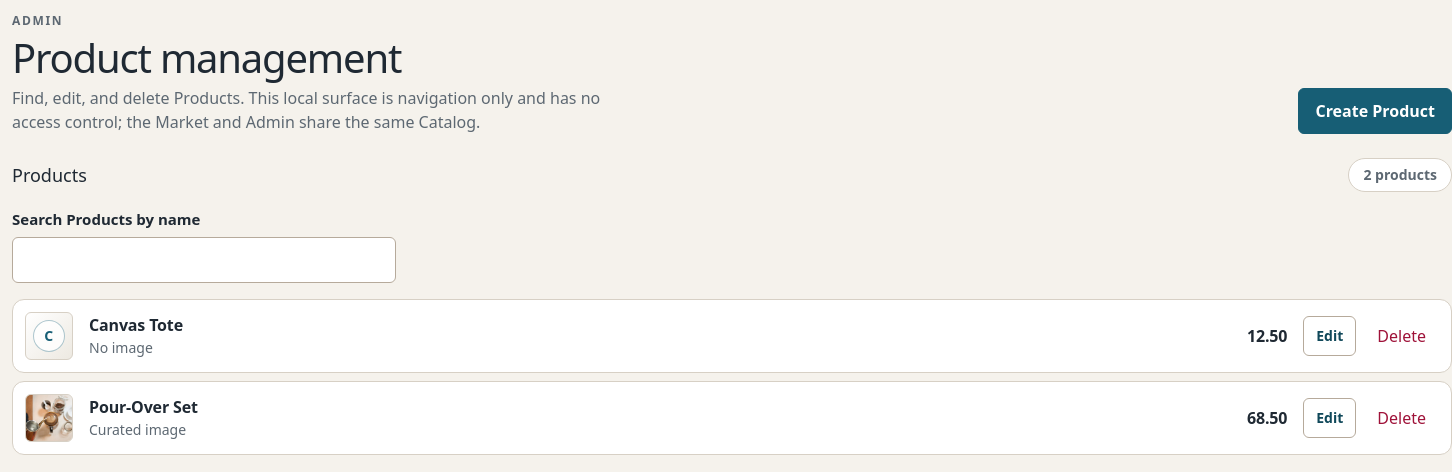
Test: AdminProducts › filters Products by name case-insensitively and clears the search
Expected: the heading "Canvas Tote" is shown, [89,314,183,336]
Type "POUR" into the search field labelled "Search Products by name" at [204, 260], box [12,236,396,282]
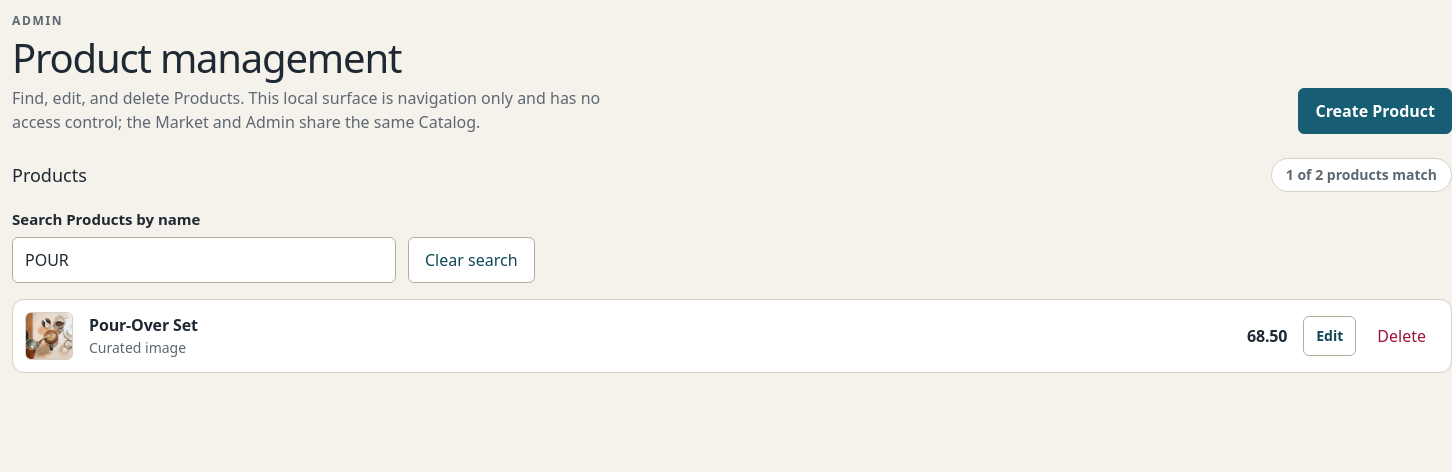
Expected: the heading "Pour-Over Set" is shown, [89,314,198,336]
Now the heading "Canvas Tote" is gone
Now the text "1 of 2 products match" is shown, box [1271,158,1451,192]
Click the button "Clear search" at [471, 260], box [408,236,534,282]
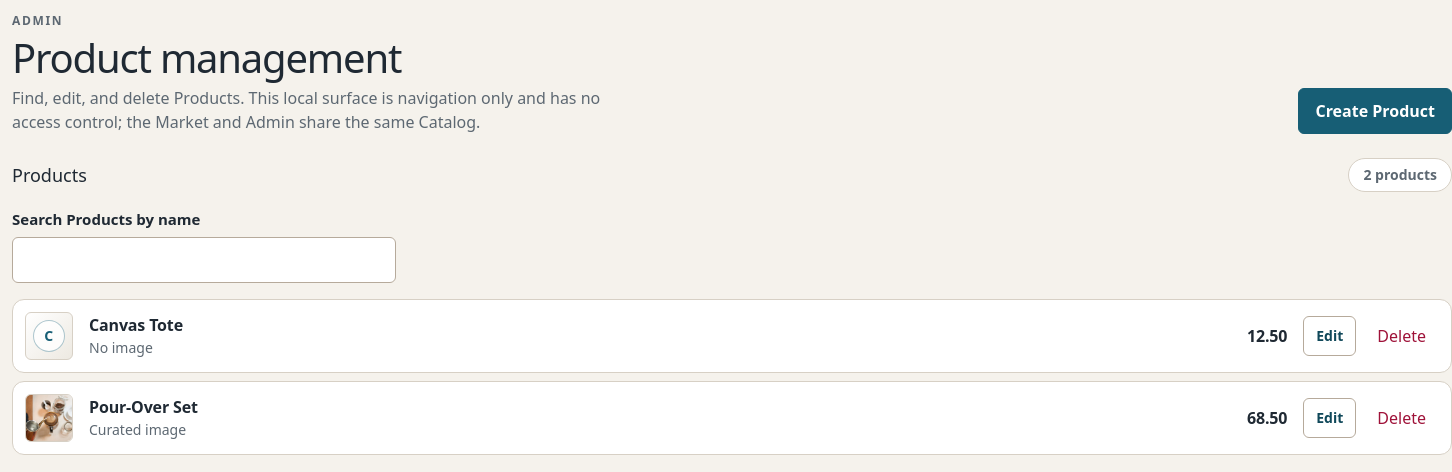
Expected: the heading "Pour-Over Set" is shown, [89,396,198,418]
Now the heading "Canvas Tote" is shown, box [89,314,183,336]
